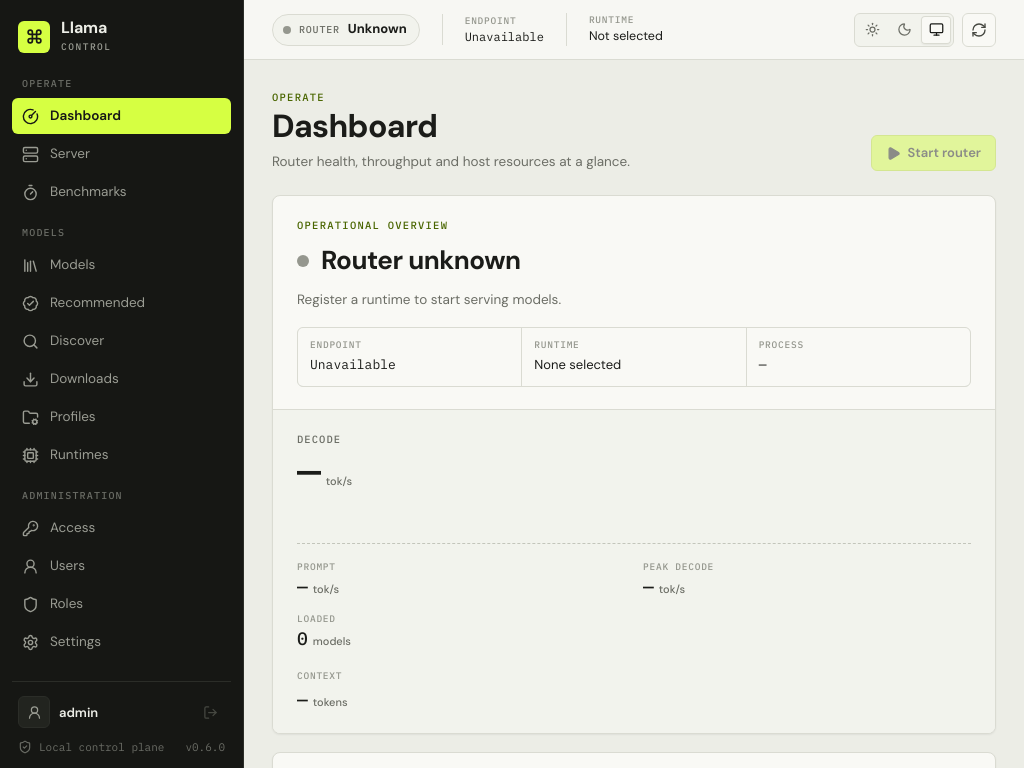
App › renders Settings with its benchmark tools for users with settings access
Click the button "Settings". click: (122, 642)
box: [12,624,231,660]
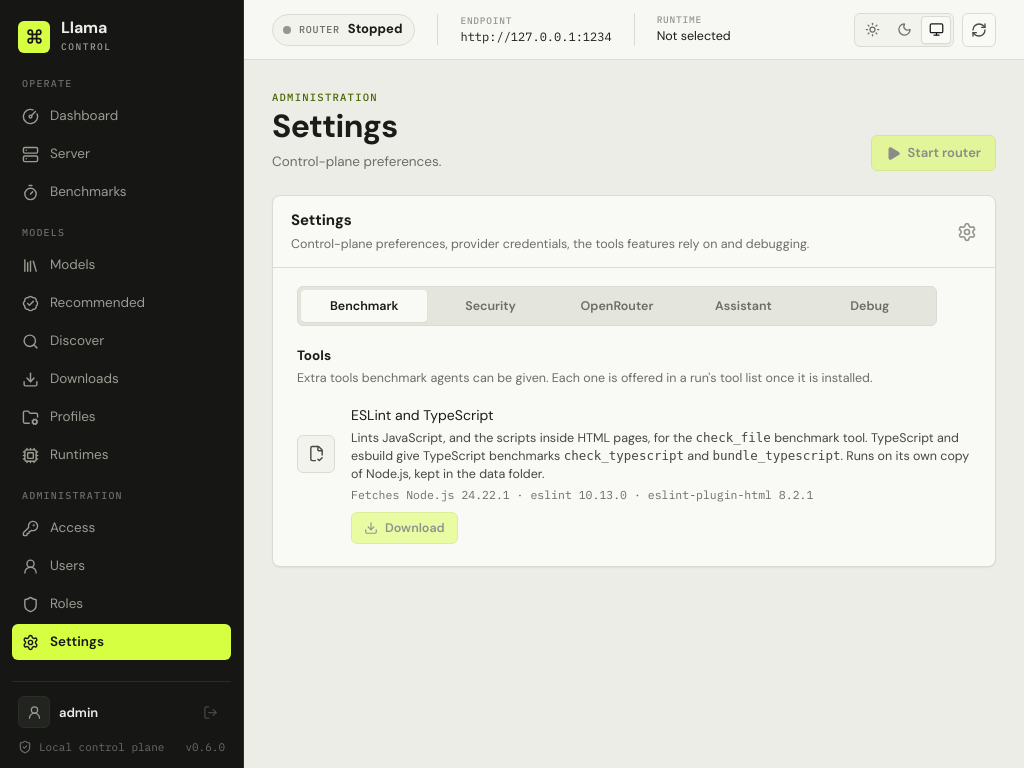
Expected: the button "Download" is disabled, [351,512,458,544]
Expected: the 2nd heading "Settings" is shown, [291,210,352,230]
Expected: the text "Fetches Node.js 24.22.1 · eslint 10.13.0" is shown, [351,487,813,502]
